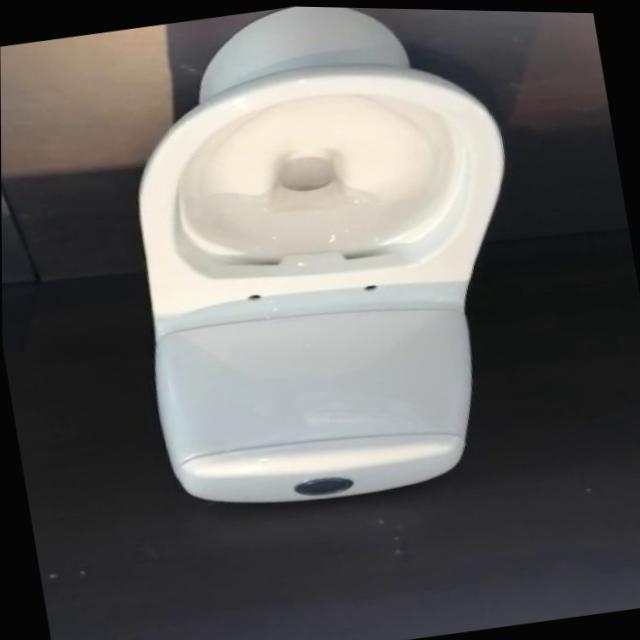toilet: (94, 2, 556, 527)
